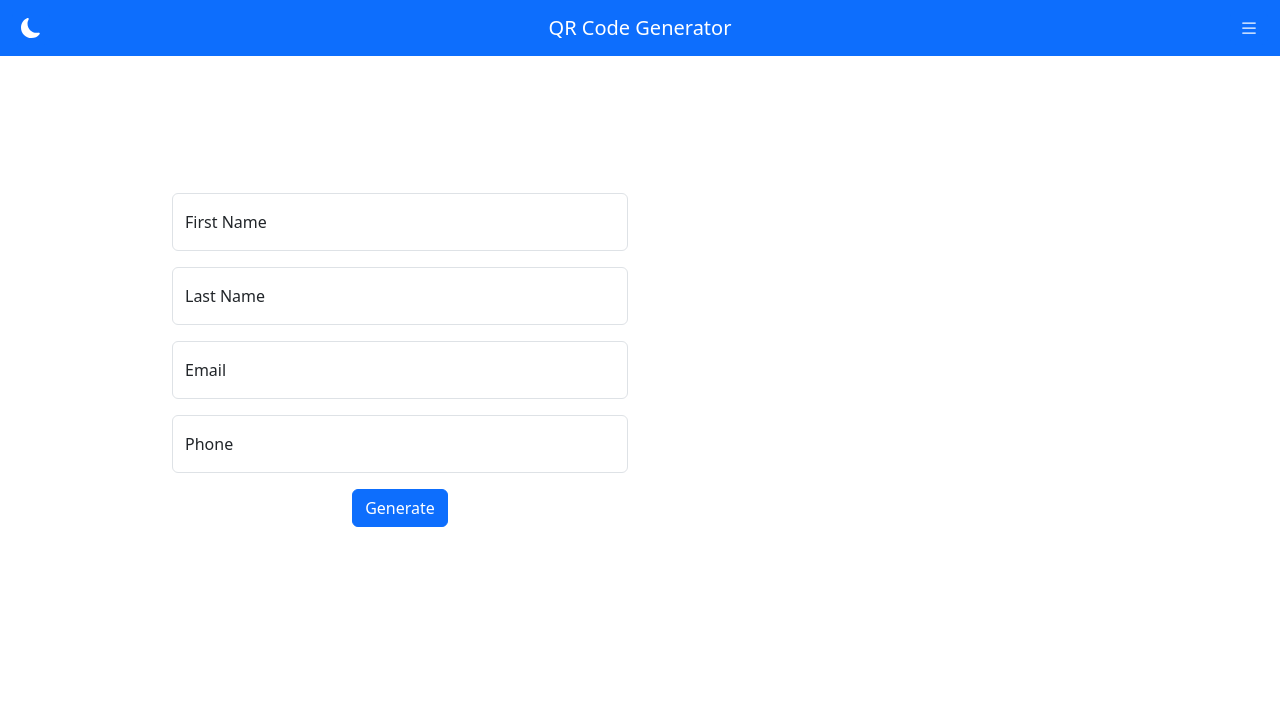
Test: App › renders the correct form when dropdown buttons are clicked
The width and height of the screenshot is (1280, 720).
Expected: the field with placeholder "SSID" is not shown
Expected: the field with placeholder "URL" is not shown
// Click top-right menu button, click Wifi option
Click the button titled "Change QR code type": point(1249, 28) top-left (1230, 11), bottom-right (1268, 45)
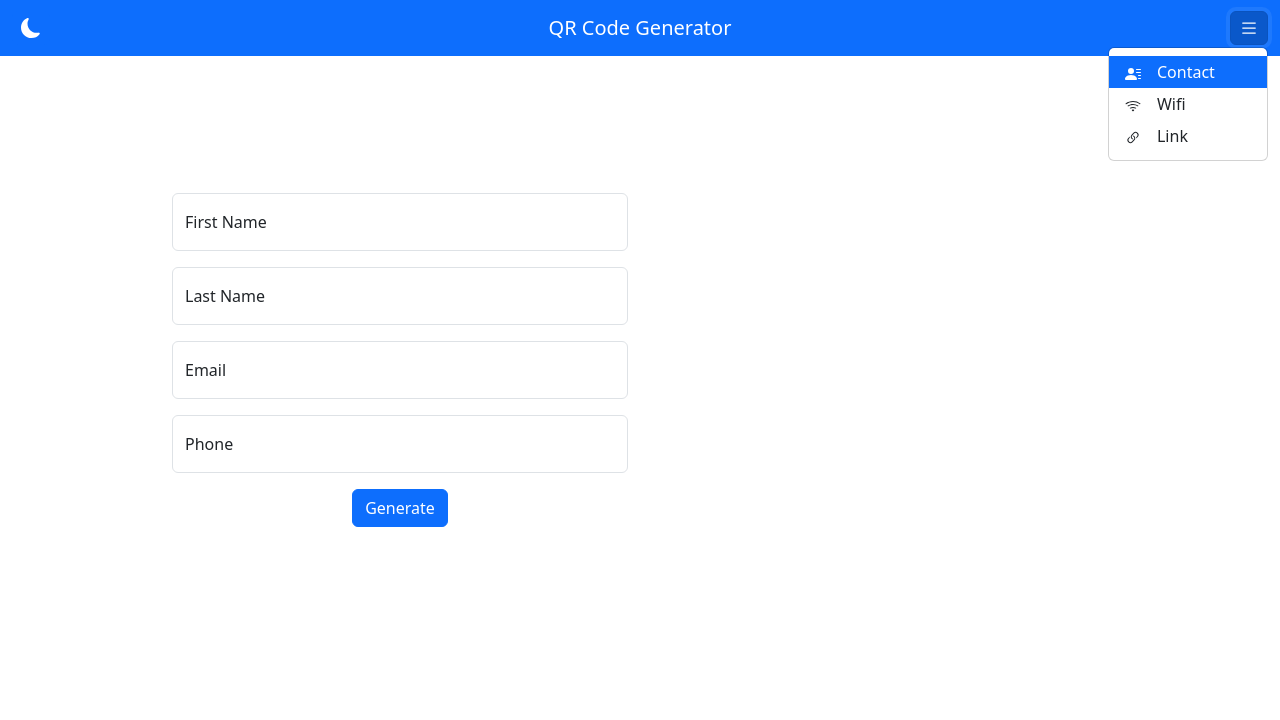
Click the button "Wifi": point(1155, 104) top-left (1125, 93), bottom-right (1186, 115)
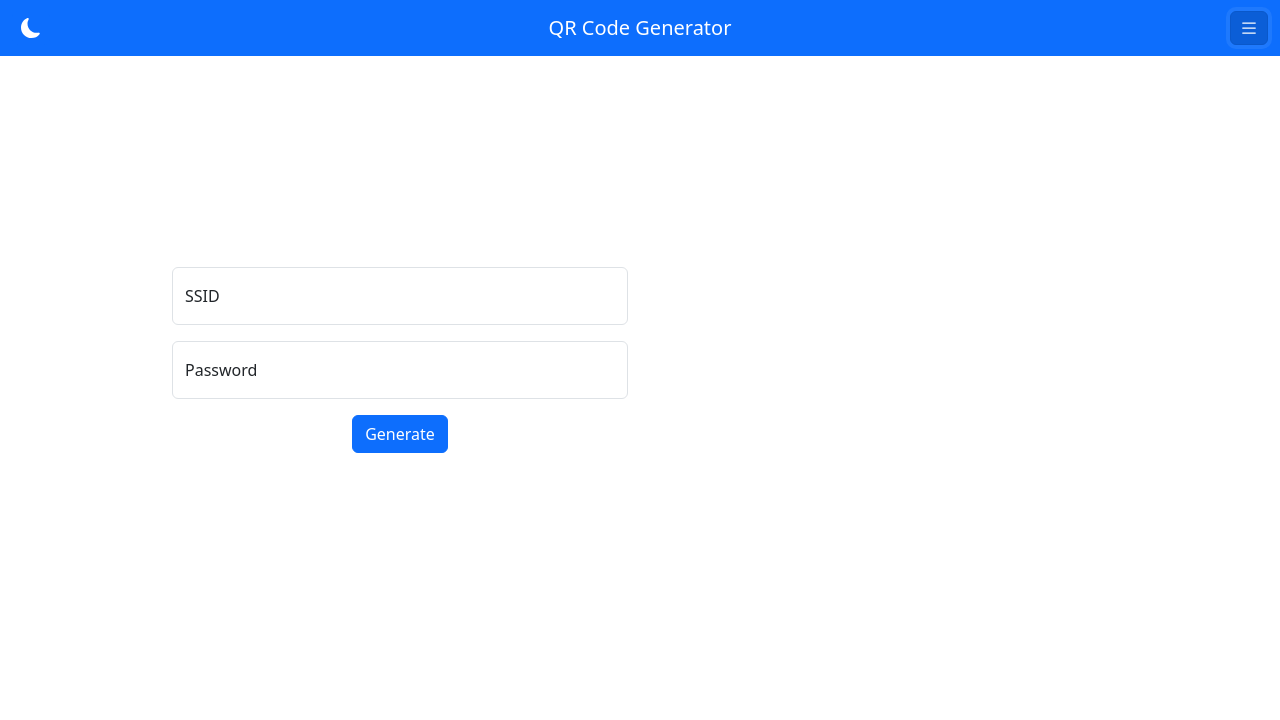
Expected: the field with placeholder "URL" is not shown
Result: the label with placeholder "First Name" is gone
// Click top-right menu button, click Link option
Click the button titled "Change QR code type": point(1249, 28) top-left (1230, 11), bottom-right (1268, 45)
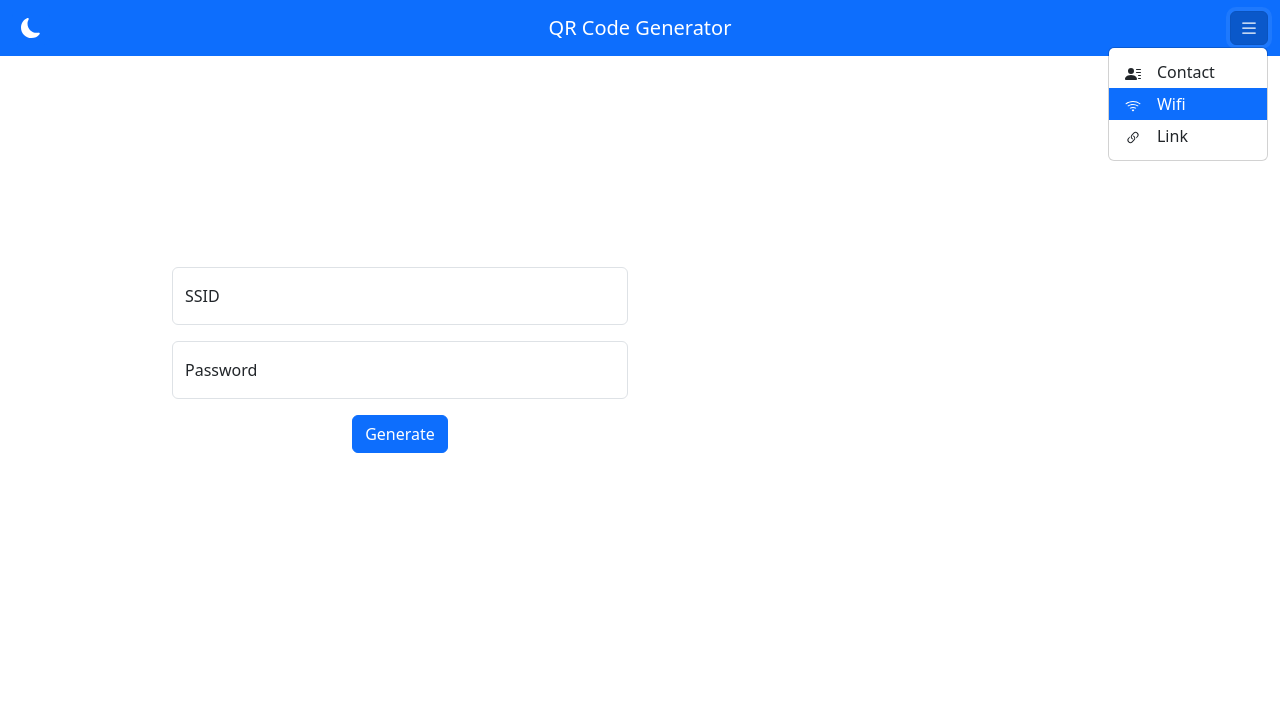
Click the button "Link": point(1156, 136) top-left (1125, 125), bottom-right (1188, 147)
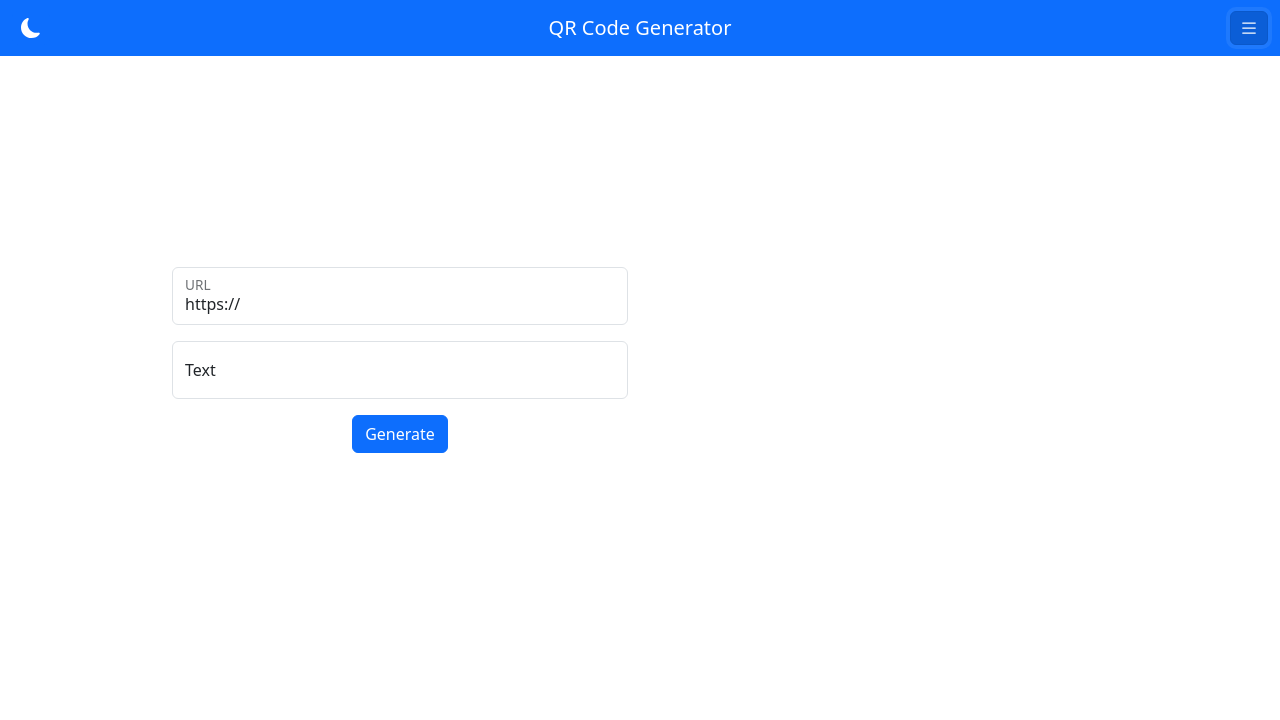
Expected: the label with placeholder "First Name" is not shown
Result: the label with placeholder "SSID" is gone
// Click top-right menu button, click Contact option
Click the button titled "Change QR code type": point(1249, 28) top-left (1230, 11), bottom-right (1268, 45)
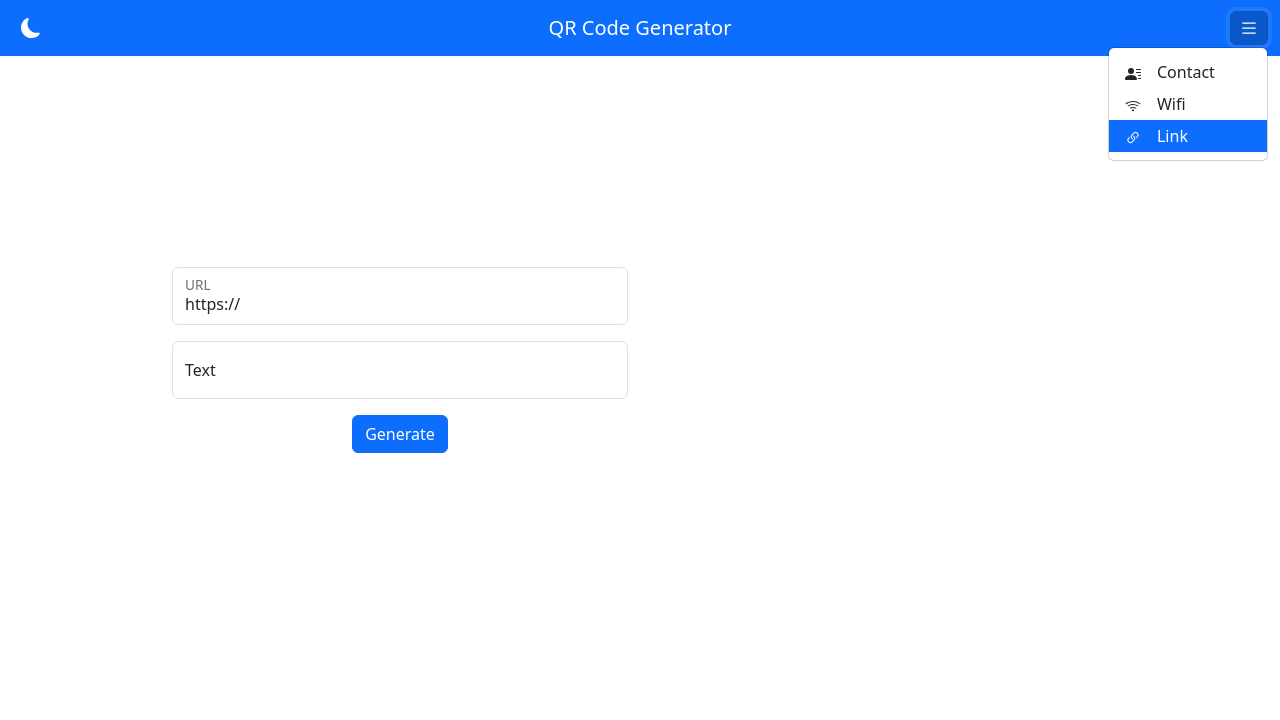
Click the button "Contact": point(1170, 72) top-left (1125, 61), bottom-right (1215, 83)
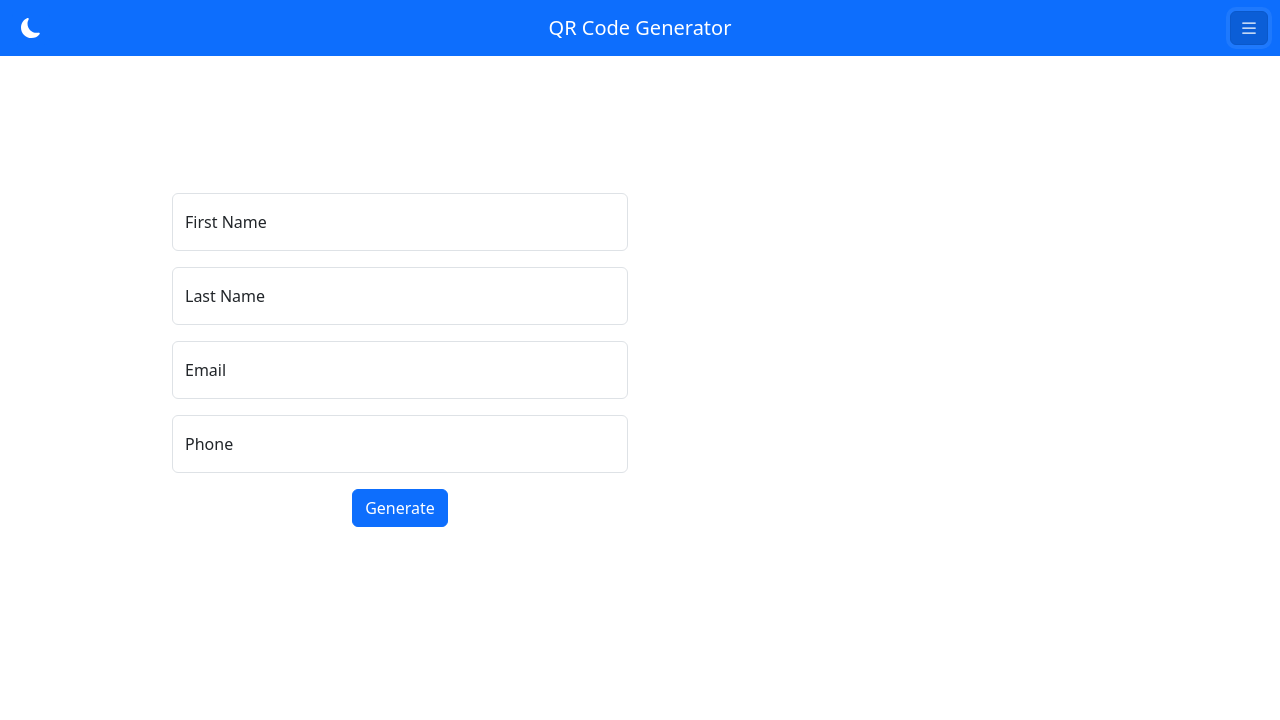
Expected: the label with placeholder "SSID" is not shown
Result: the label with placeholder "URL" is gone
